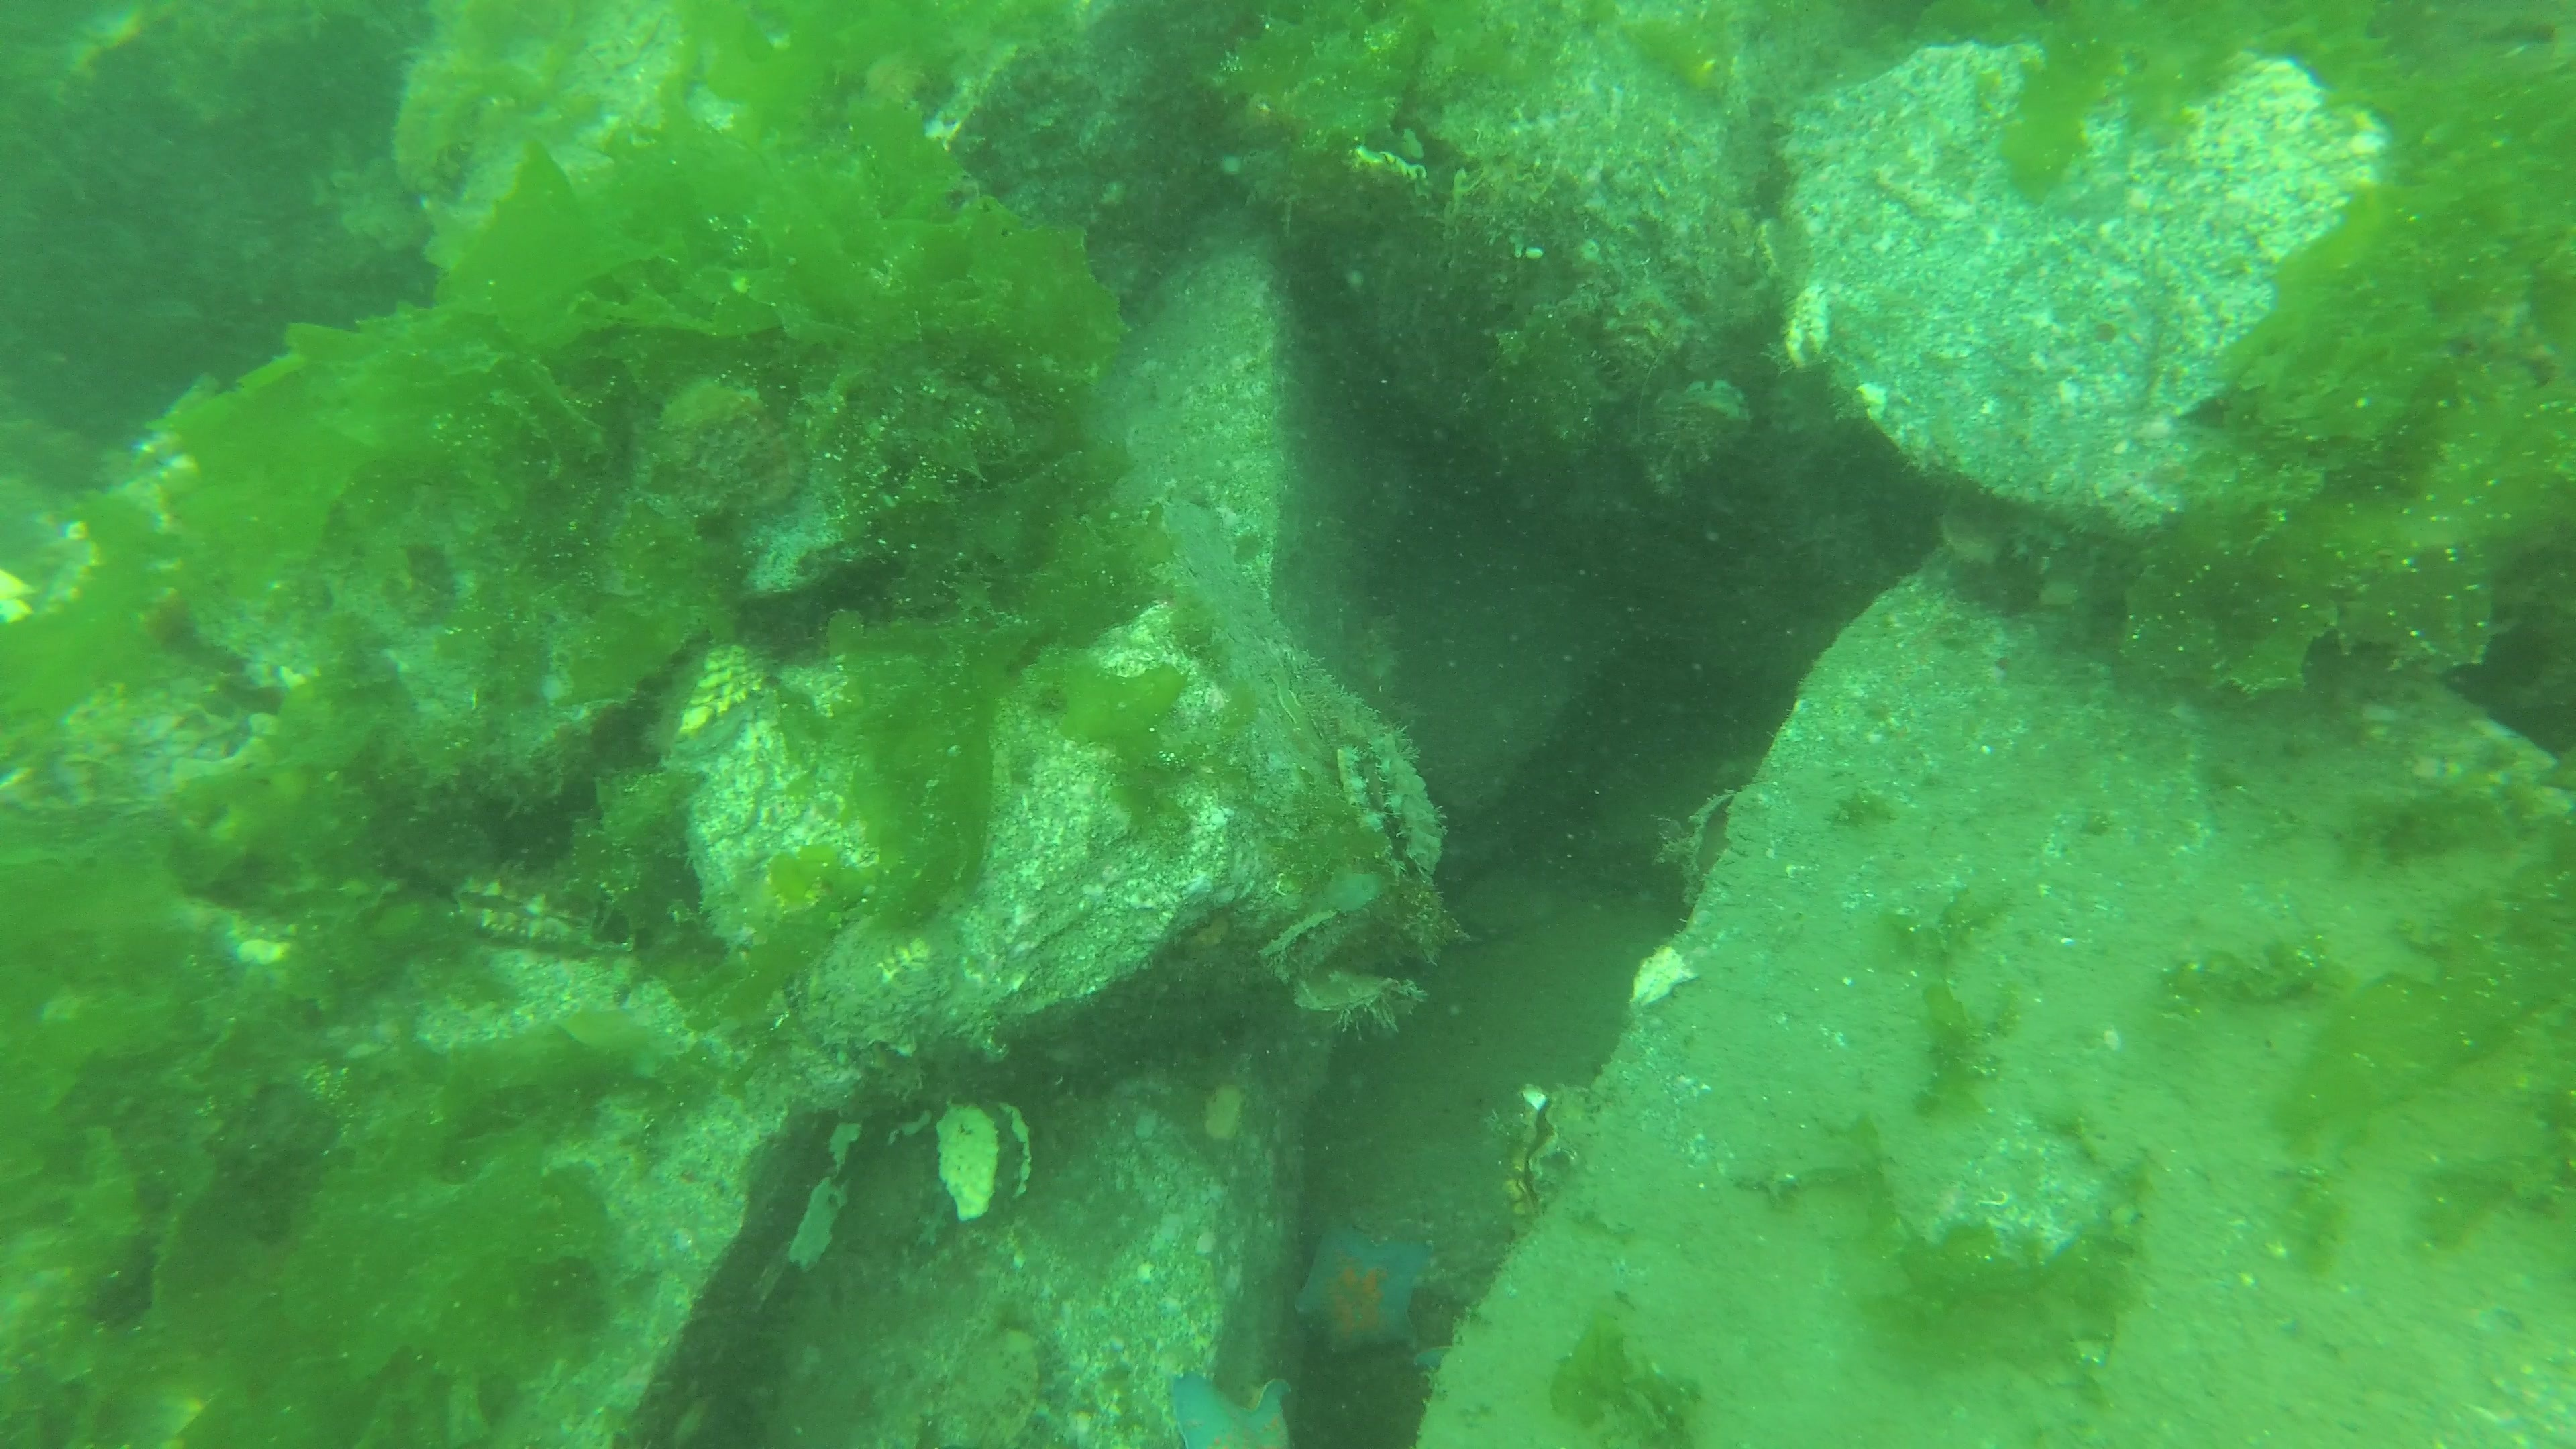starfish: (1293, 1217, 1442, 1359), (1162, 1371, 1299, 1449)
